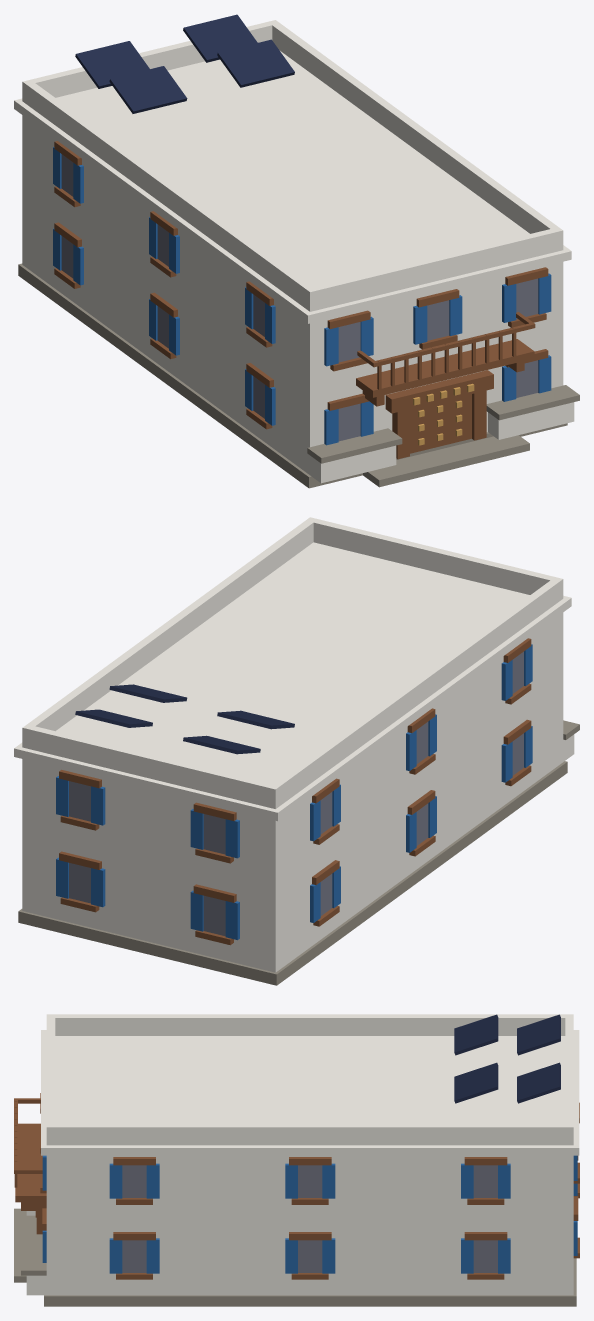
The model's file is house-1x2-2f-swahili-a-solar.glb.
The picture shows the model from 3 angles, top to bottom: view 1: azimuth 30°, elevation 25°; view 2: azimuth 150°, elevation 25°; view 3: azimuth 270°, elevation 25°; orthographic projection. The views are drawn at different scales.
Visible parts, largest first — view 1: house-1x2-2f-swahili-a-solar; view 2: house-1x2-2f-swahili-a-solar; view 3: house-1x2-2f-swahili-a-solar.
Part boxes in pixels (box(x1,y1,x2,y2)): house-1x2-2f-swahili-a-solar: box(14, 14, 579, 488); house-1x2-2f-swahili-a-solar: box(14, 517, 579, 985); house-1x2-2f-swahili-a-solar: box(14, 1014, 579, 1306).
Size of the model in its own units: 0.984 by 0.7686 by 1.99.
Materials: 1 (1 with a texture image).
